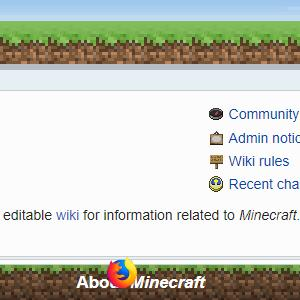firefox: (107, 256, 138, 288)
